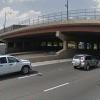Bridge: (4, 9, 94, 48)
